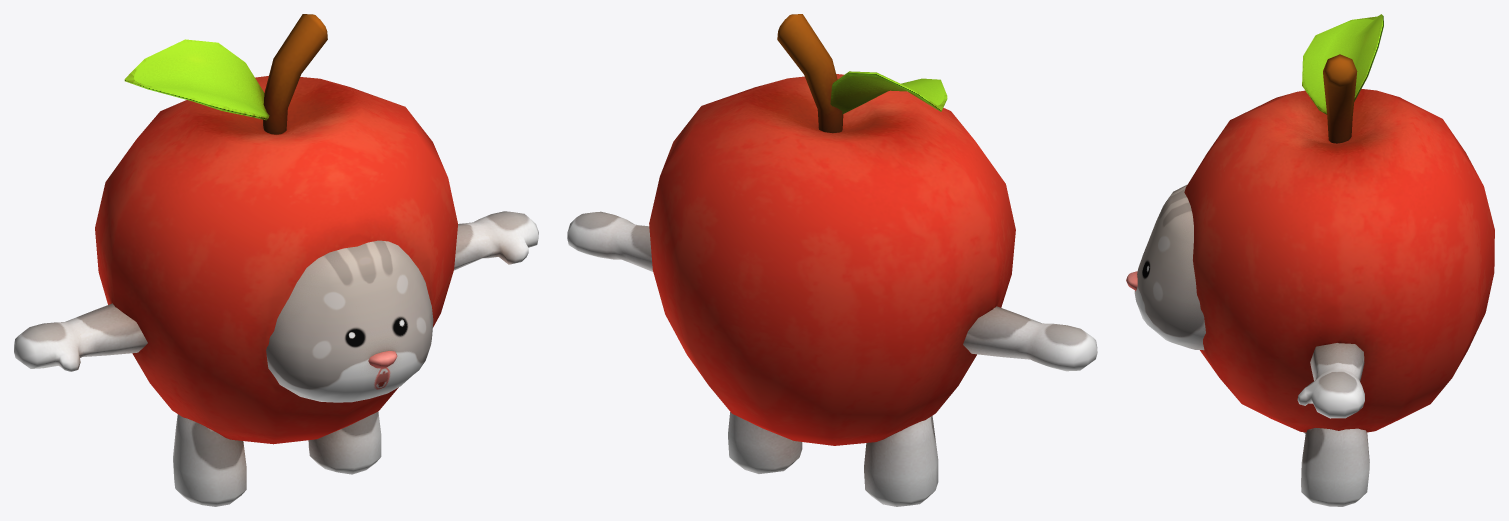
The model's file is AppleCat.fbx.
3 views of the same model, side by side, from view 1: azimuth 30°, elevation 25°; view 2: azimuth 150°, elevation 25°; view 3: azimuth 270°, elevation 25° (orthographic). The views are drawn at different scales.
Visible parts, largest first — view 1: AppleCat; view 2: AppleCat; view 3: AppleCat.
Part boxes in pixels (x1=…): AppleCat: x1=14, y1=14, x2=538, y2=506; AppleCat: x1=567, y1=14, x2=1097, y2=506; AppleCat: x1=1126, y1=14, x2=1494, y2=506.
Size of the model in its own units: 228 by 193 by 150.
